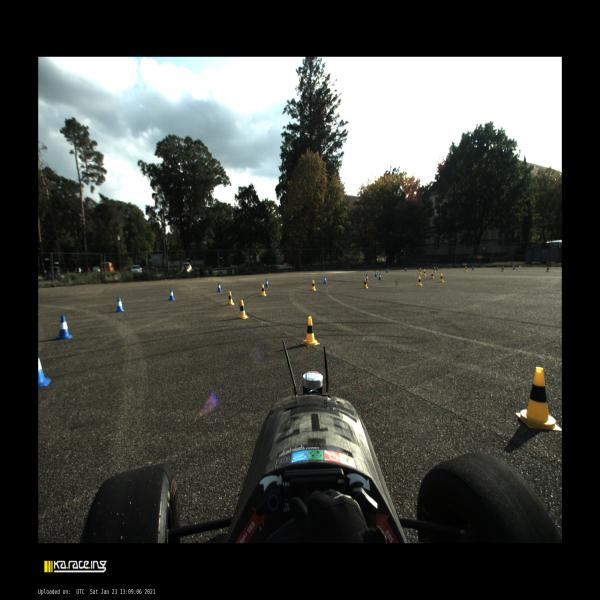blue_cone: (56, 315, 73, 339), (38, 356, 51, 387), (115, 297, 125, 312), (168, 288, 176, 300), (217, 282, 222, 292), (265, 279, 269, 287), (323, 276, 327, 284), (378, 273, 382, 280), (374, 270, 378, 277), (366, 274, 369, 282), (512, 264, 516, 270), (386, 267, 389, 273), (405, 266, 407, 272), (376, 269, 378, 275), (472, 265, 474, 270), (436, 266, 438, 270)
yellow_cone: (516, 367, 561, 431), (302, 317, 320, 346), (238, 300, 248, 319), (227, 291, 234, 305), (261, 284, 267, 296), (416, 276, 423, 286), (363, 278, 368, 288), (312, 280, 316, 291), (439, 274, 444, 282), (430, 272, 435, 279), (423, 269, 427, 276), (418, 268, 422, 274), (464, 266, 468, 272), (546, 266, 550, 272), (501, 266, 504, 272), (433, 267, 436, 272)
